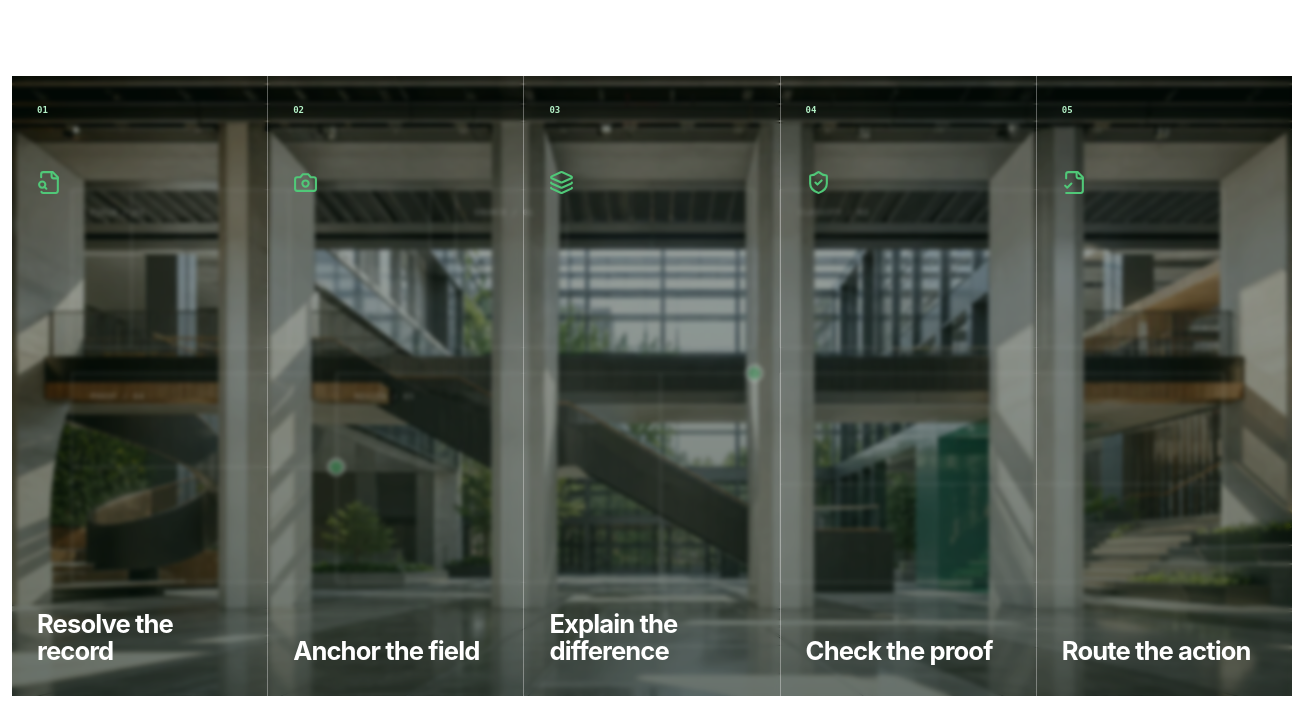
VerificationPanels › expands a panel from keyboard focus
Focus the button "01 Resolve the record" at (140, 386), box [12, 76, 267, 696]
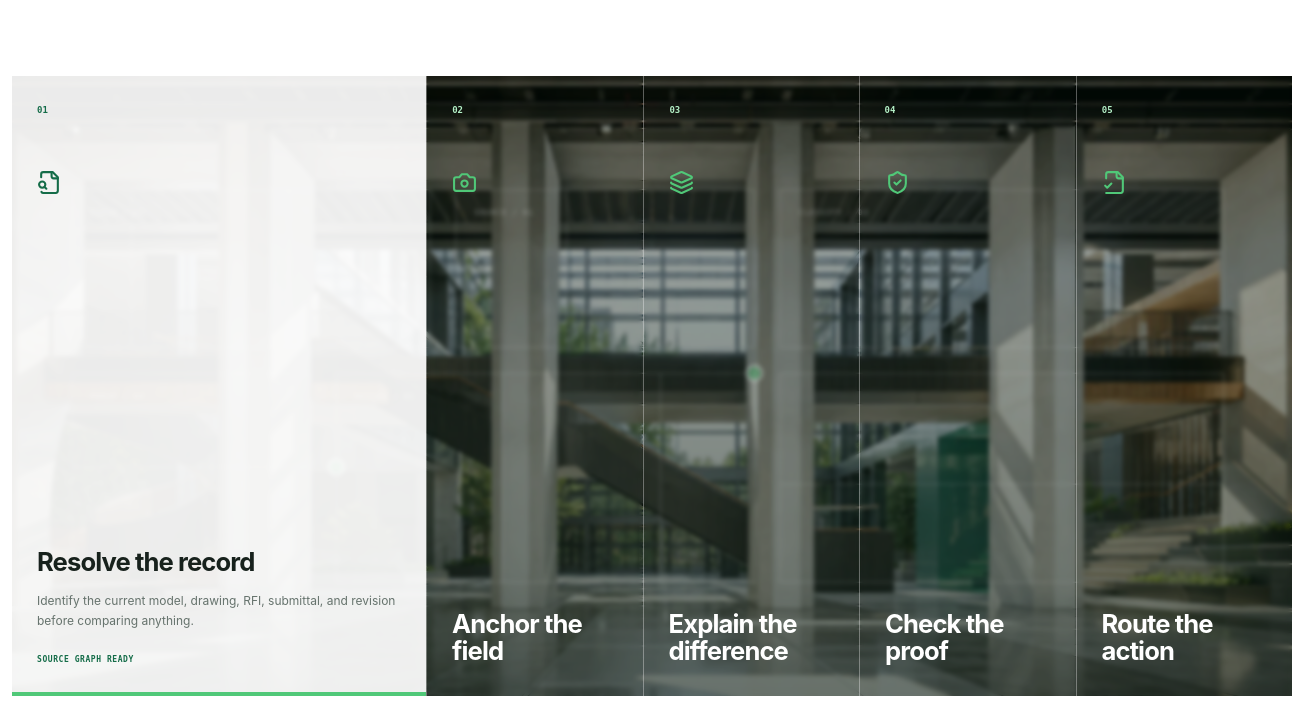
Result: the button that starts with "Resolve the record" is expanded
Press Escape in the button that starts with "Resolve the record", box [12, 76, 426, 696]
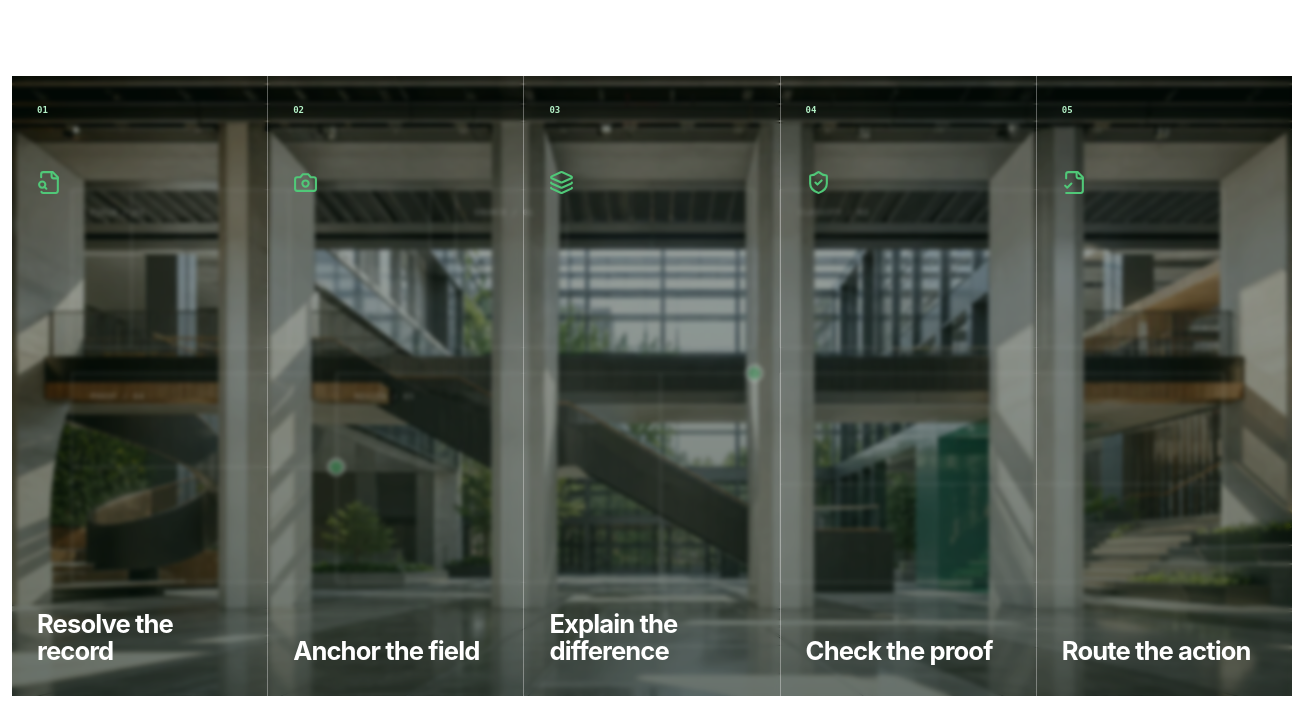
Result: the button "01 Resolve the record" is collapsed at [12, 76, 267, 696]
